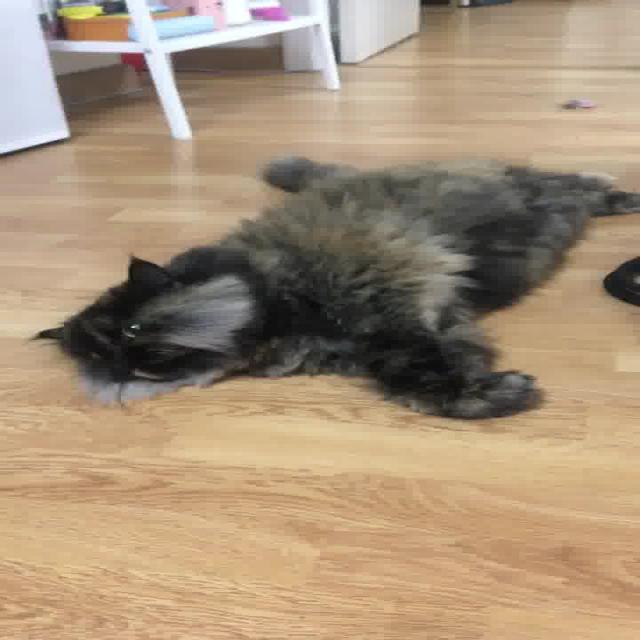cat: (36, 146, 640, 424)
